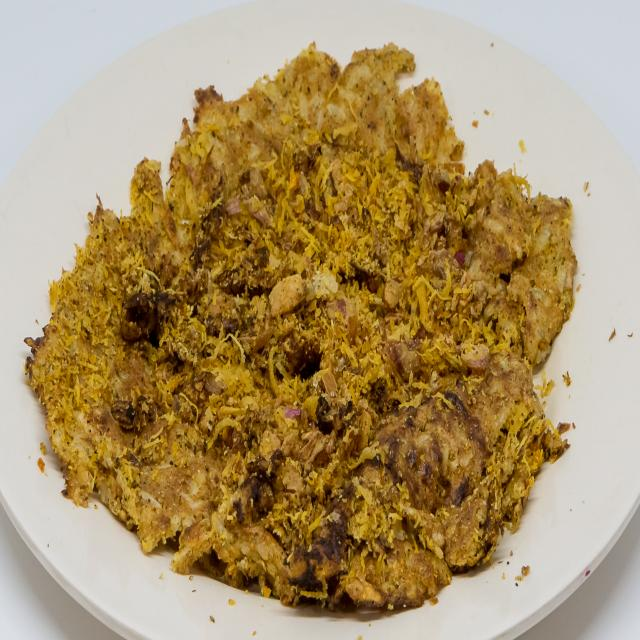Kerak-Telor: (20, 23, 590, 615)
